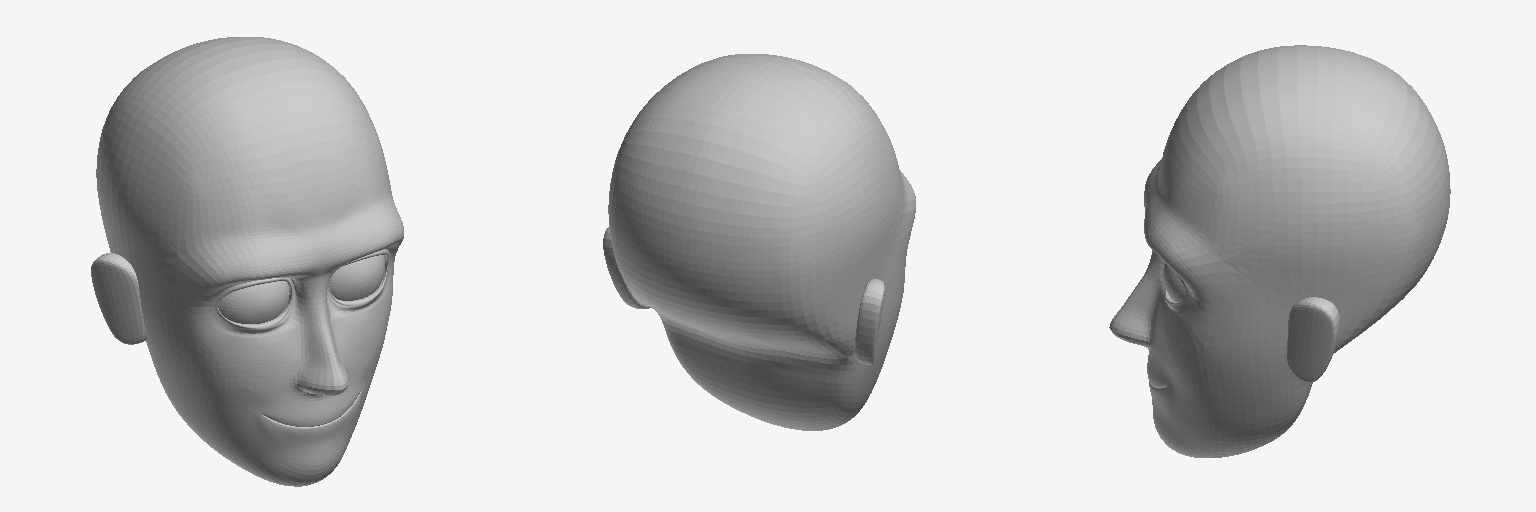
The model's file is Head.obj.
The picture shows the model from 3 angles: view 1: azimuth 30°, elevation 25°; view 2: azimuth 150°, elevation 25°; view 3: azimuth 270°, elevation 25°; orthographic projection.
Parts seen in each view (by area): view 1: GEO-Body.001_Body.001; view 2: GEO-Body.001_Body.001; view 3: GEO-Body.001_Body.001.
Boxes of the visible parts, x1=… form: GEO-Body.001_Body.001: x1=91, y1=37, x2=403, y2=486; GEO-Body.001_Body.001: x1=603, y1=54, x2=915, y2=430; GEO-Body.001_Body.001: x1=1109, y1=45, x2=1450, y2=457.
Bounding box in the file's own units: 0.2127 × 0.2856 × 0.2266.